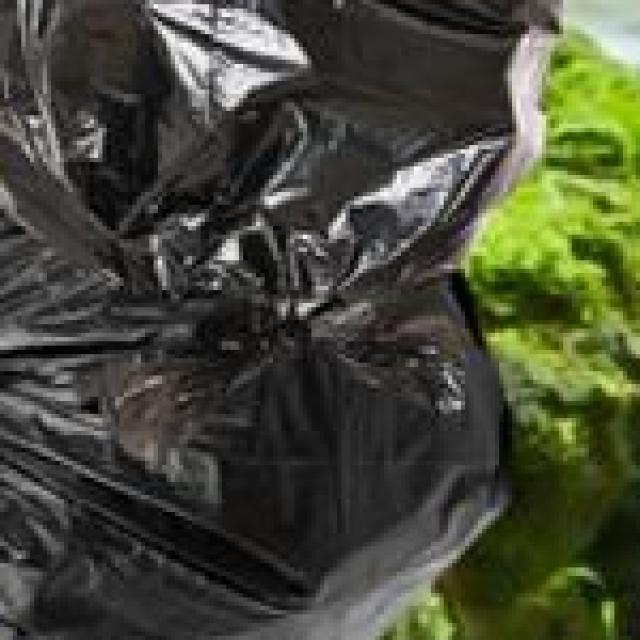Trashbag: (0, 0, 505, 374), (19, 381, 483, 640)
